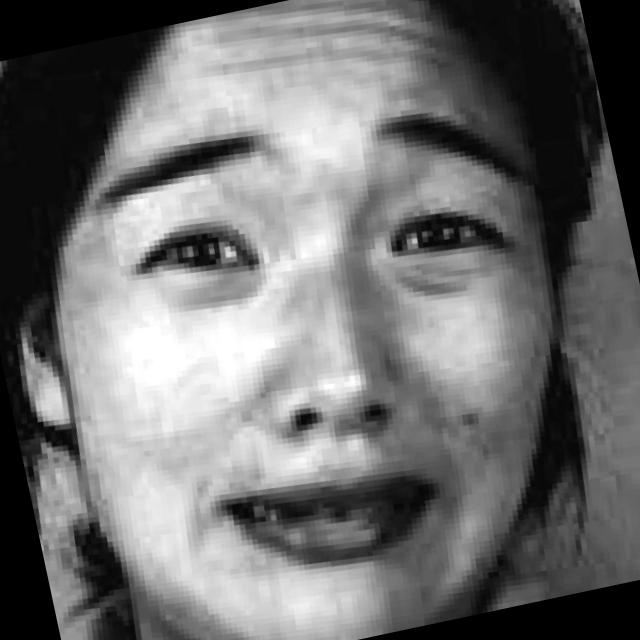fear: (0, 11, 629, 640)
